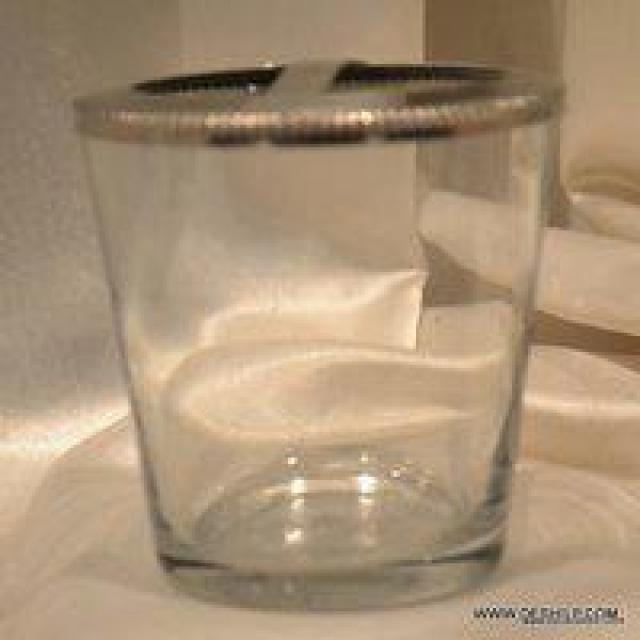non-organic waste: (56, 53, 571, 606)
